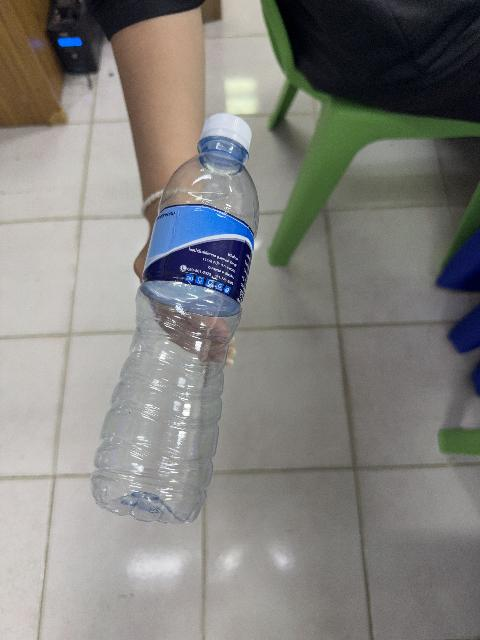bottle: (91, 114, 258, 523)
